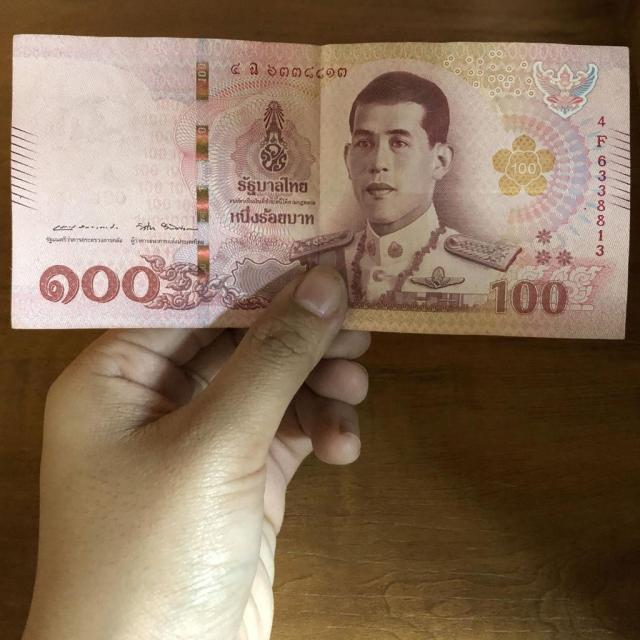THAI100: (11, 34, 630, 339)
